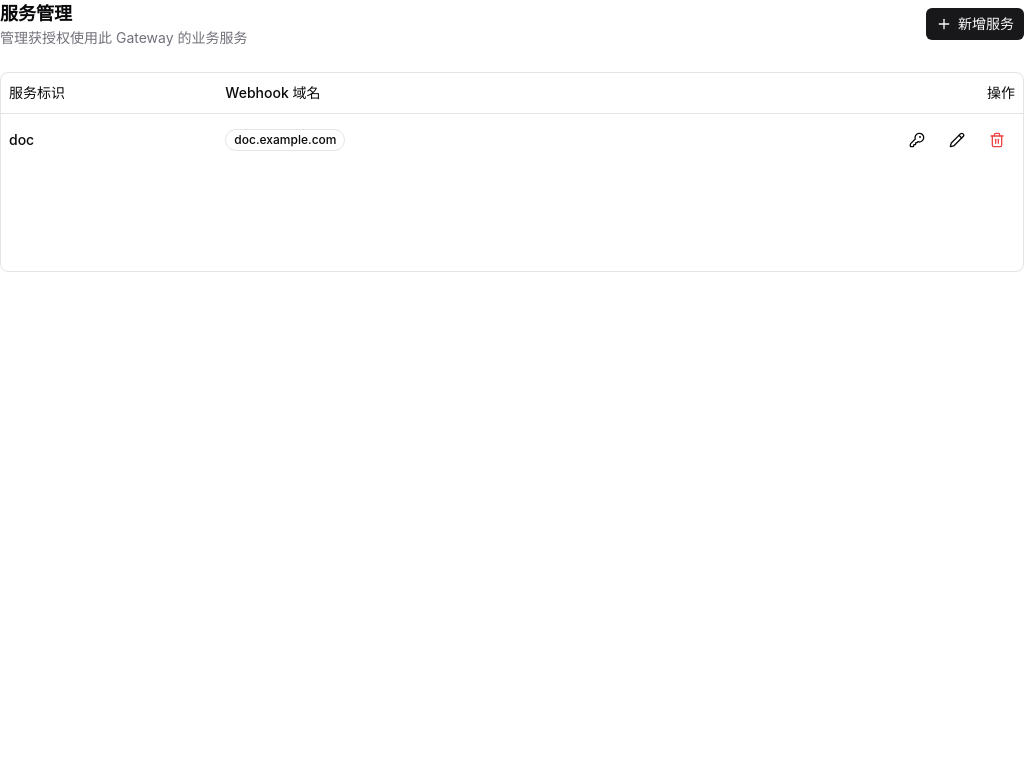
Test case: ServicesPage webhook credentials › shows the pending secret returned by rotation without activating it
Click the button named "生成待切换凭证" at {"x": 917, "y": 140}, box [899,122,935,158]
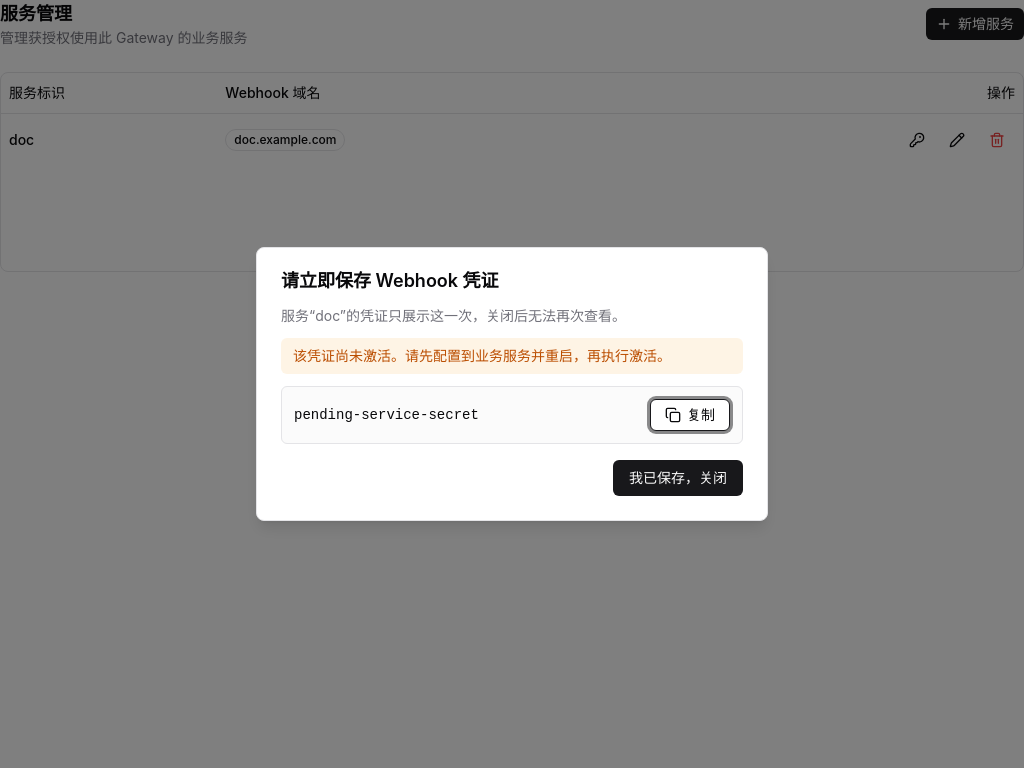
Expected: the text "pending-service-secret" is shown, [294,407,479,423]
Expected: the text "该凭证尚未激活。请先配置到业务服务并重启，再执行激活。" is shown, [281,338,743,374]
